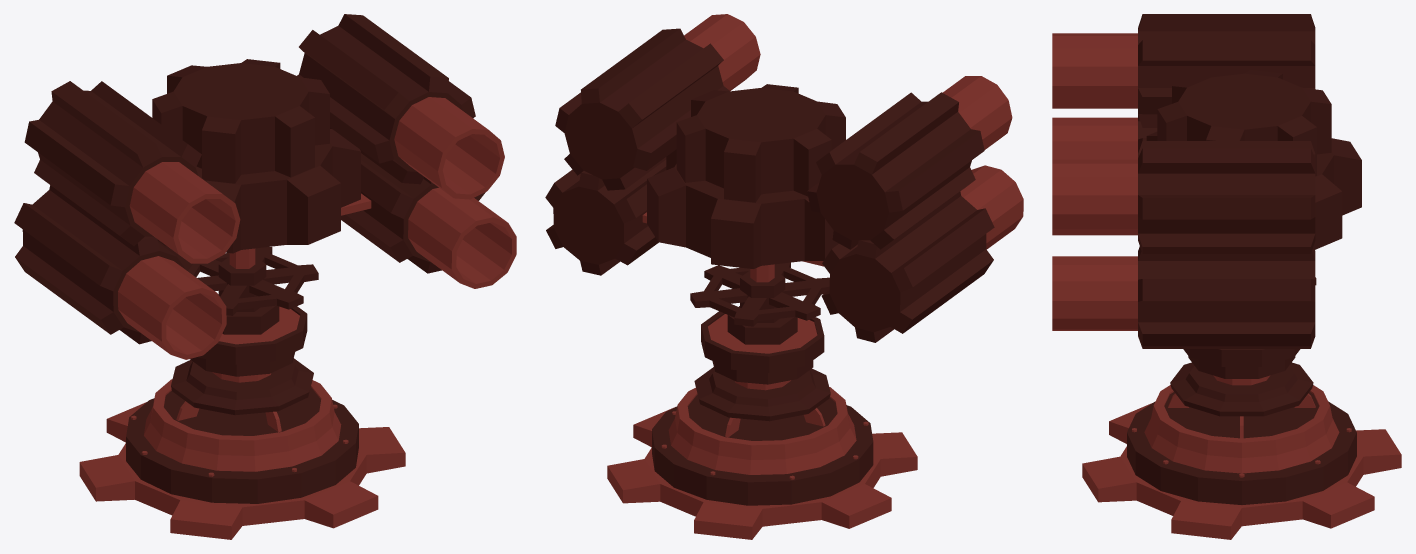
The model's file is GearCannon_2.glb.
3 views of the same model, side by side, from view 1: azimuth 30°, elevation 25°; view 2: azimuth 150°, elevation 25°; view 3: azimuth 270°, elevation 25° (orthographic). The views are drawn at different scales.
Visible parts, largest first — view 1: GearCannon_2_Gun, GearCannon_2_Base, GearCannon_2_Mid; view 2: GearCannon_2_Gun, GearCannon_2_Base, GearCannon_2_Mid; view 3: GearCannon_2_Gun, GearCannon_2_Base, GearCannon_2_Mid.
Part boxes in pixels (box(x1,y1,x2,y2)): GearCannon_2_Gun: box(14, 14, 516, 359); GearCannon_2_Base: box(79, 358, 405, 539); GearCannon_2_Mid: box(188, 247, 318, 382); GearCannon_2_Gun: box(545, 14, 1023, 342); GearCannon_2_Base: box(607, 367, 917, 539); GearCannon_2_Mid: box(690, 262, 829, 390); GearCannon_2_Gun: box(1052, 14, 1361, 348); GearCannon_2_Base: box(1082, 362, 1401, 539); GearCannon_2_Mid: box(1183, 277, 1316, 385).
Size of the model in its own units: 1.26 by 1.25 by 1.01.
